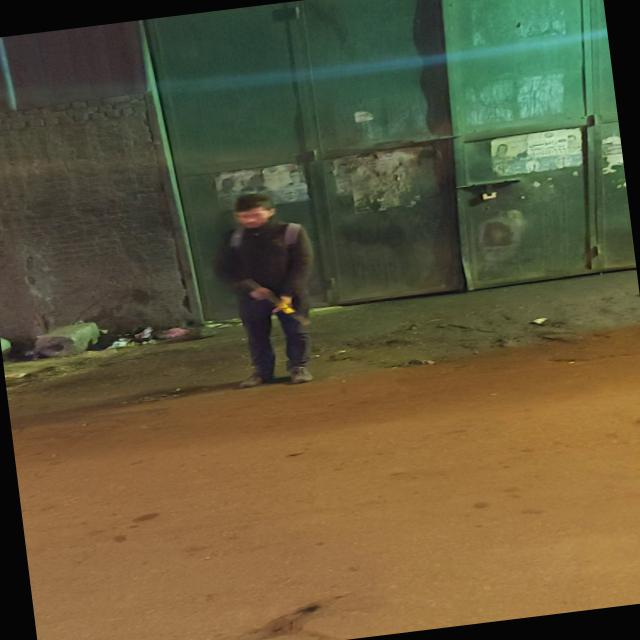long weapon: (226, 261, 316, 341)
